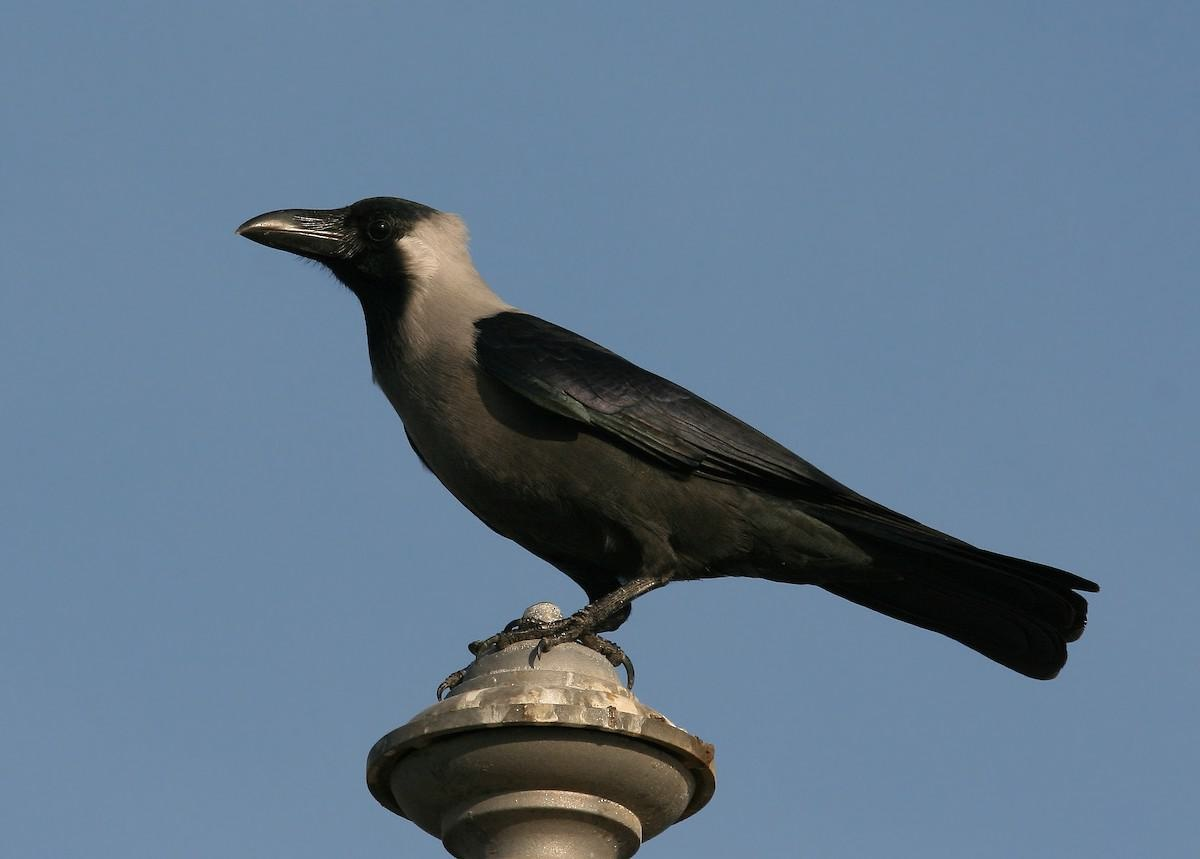crow: (253, 170, 1092, 717)
